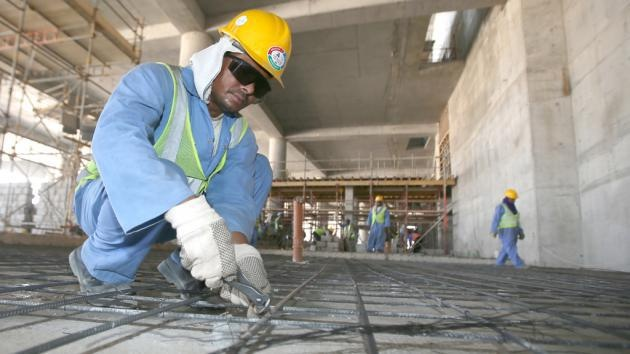yellow: (207, 10, 290, 112), (502, 188, 518, 205), (374, 194, 382, 205)
